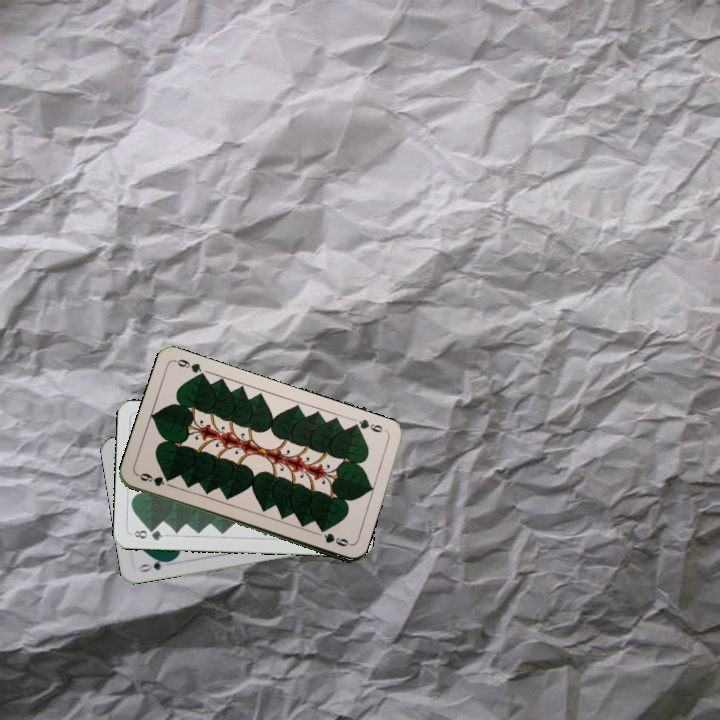G8: (130, 525, 165, 543)
G9: (348, 415, 390, 435), (133, 469, 167, 489)
GO: (134, 555, 174, 575)
